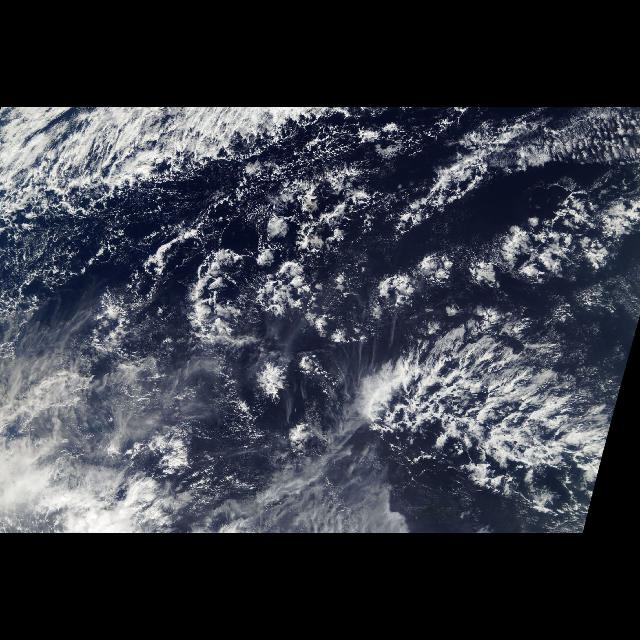Fish: (343, 320, 619, 520)
Gravel: (280, 128, 538, 306)
Sugar: (257, 447, 411, 533)
